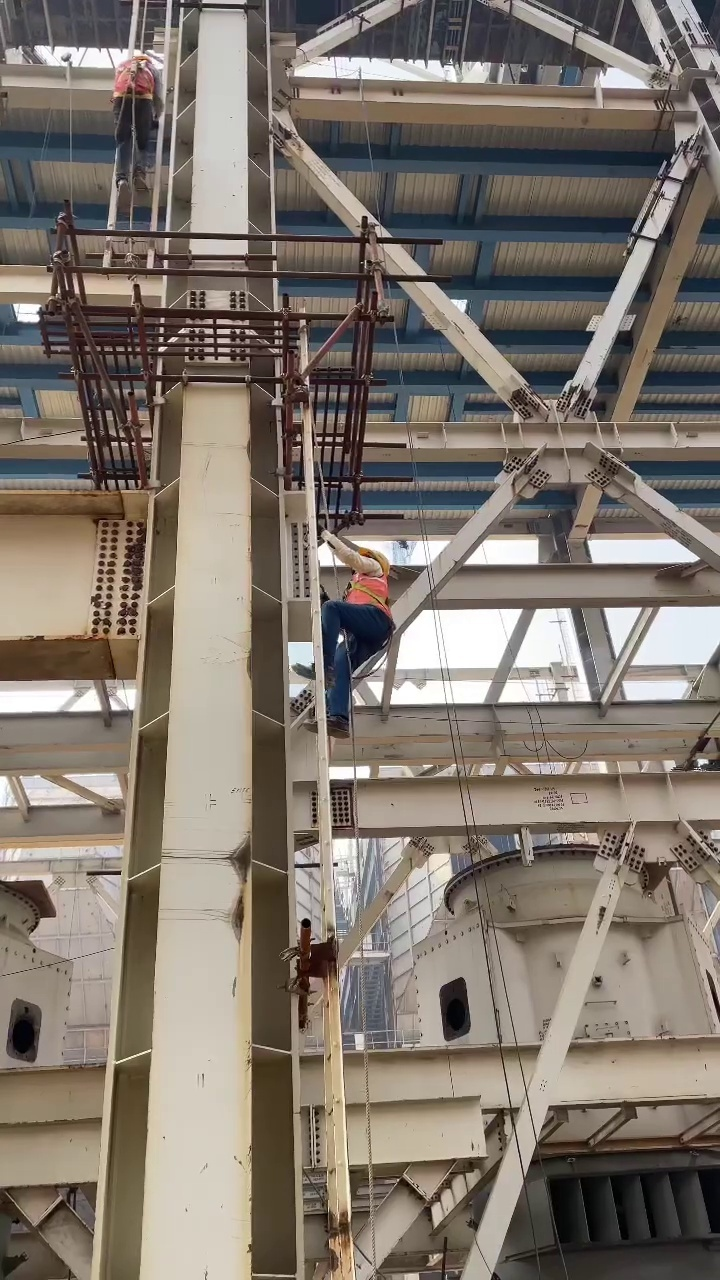Helmet: (360, 543, 392, 566)
Person: (296, 543, 396, 740), (101, 52, 158, 212)
Safety_Harness: (348, 567, 395, 613), (113, 53, 154, 95)
Safety_shoes: (302, 718, 350, 741), (290, 659, 324, 681), (133, 171, 152, 202), (115, 178, 131, 211)
